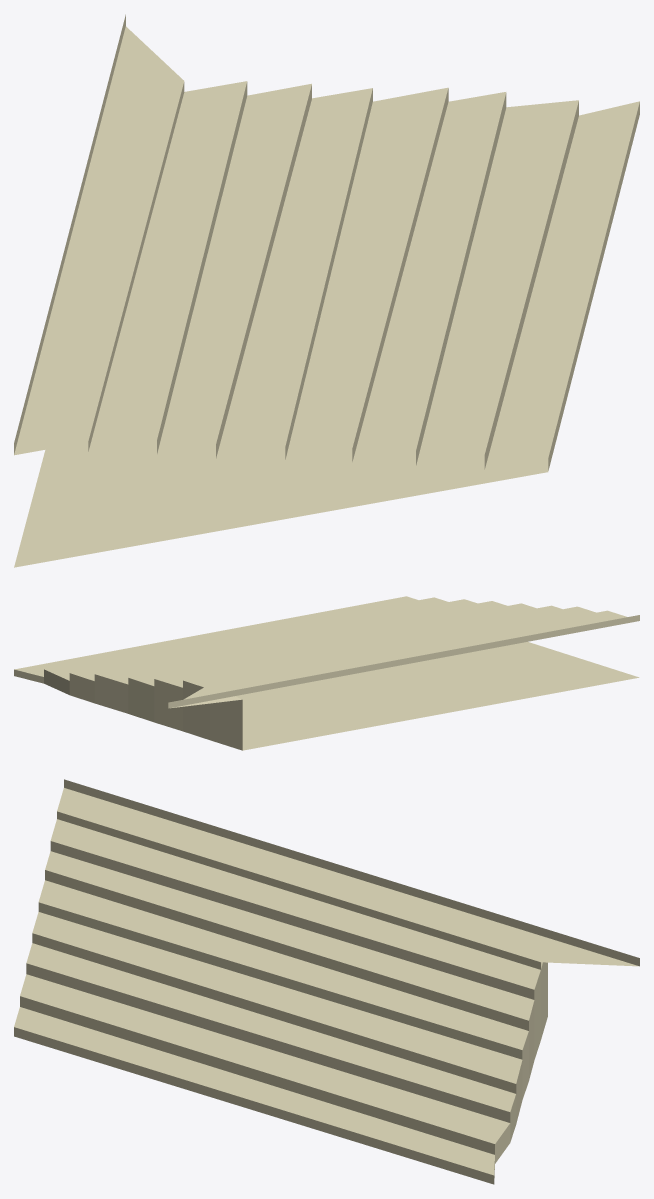
The model's file is MDL_StairsSmaal.fbx.
The picture shows the model from 3 angles, top to bottom: view 1: azimuth 30°, elevation 25°; view 2: azimuth 150°, elevation 25°; view 3: azimuth 270°, elevation 25°; orthographic projection. The views are drawn at different scales.
Parts seen in each view (by area): view 1: polySurface52; view 2: polySurface52; view 3: polySurface52.
Part boxes in pixels (x1,y1,x2,y2): polySurface52: (14,14,639,567); polySurface52: (14,596,639,750); polySurface52: (14,779,639,1184).
Size of the model in its own units: 501 by 63.8 by 416.
